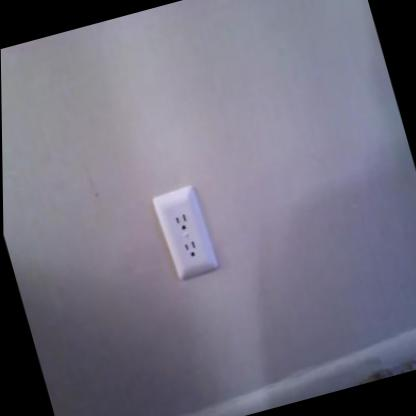OUTLET: (150, 183, 220, 282)
